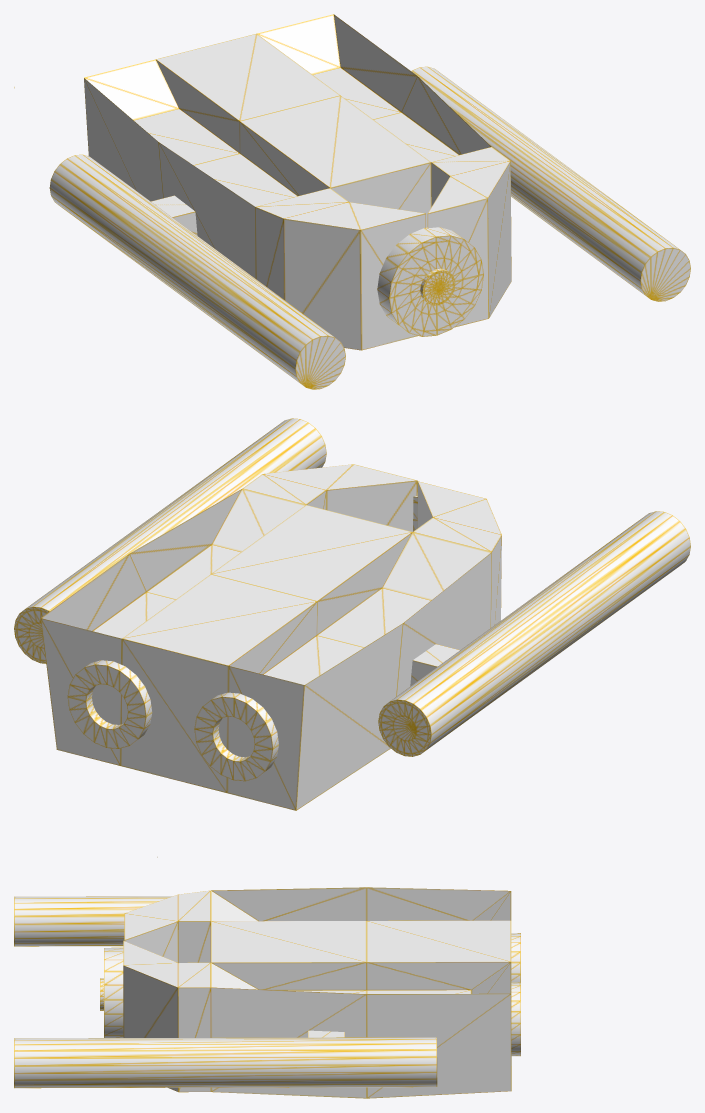
The model's file is EnemyBomber.obj.
3 views of the same model, one above another, from view 1: azimuth 30°, elevation 25°; view 2: azimuth 150°, elevation 25°; view 3: azimuth 270°, elevation 25° (orthographic). The views are drawn at different scales.
Parts seen in each view (by area): view 1: EnemyBomber:polySurface3 EnemyBomber:polySurface15 EnemyBomber:p; view 2: EnemyBomber:polySurface3 EnemyBomber:polySurface15 EnemyBomber:p; view 3: EnemyBomber:polySurface3 EnemyBomber:polySurface15 EnemyBomber:p.
Boxes of the visible parts, x1,y1,x2,y2 form: EnemyBomber:polySurface3 EnemyBomber:polySurface15 EnemyBomber:p: [49, 14, 690, 389]; EnemyBomber:polySurface3 EnemyBomber:polySurface15 EnemyBomber:p: [14, 418, 690, 810]; EnemyBomber:polySurface3 EnemyBomber:polySurface15 EnemyBomber:p: [14, 887, 520, 1098].
Bounding box in the file's own units: 4.09 × 1.23 × 7.05.
1 material, 1 textured.
